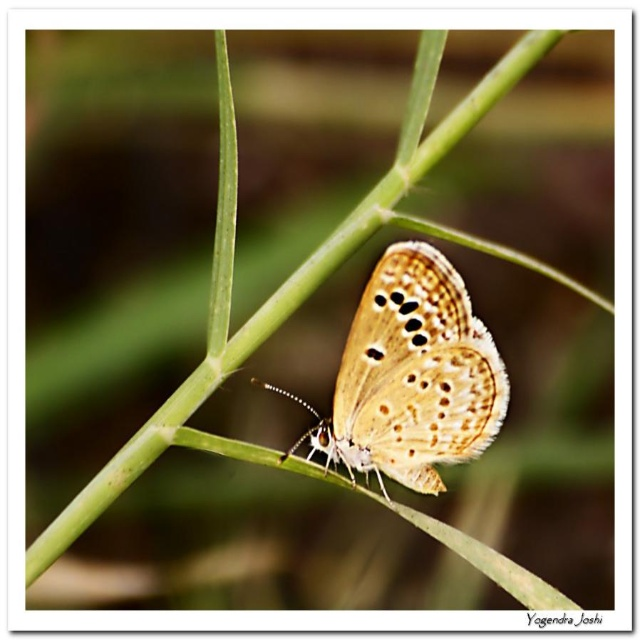Butterfly: (241, 236, 515, 510)
